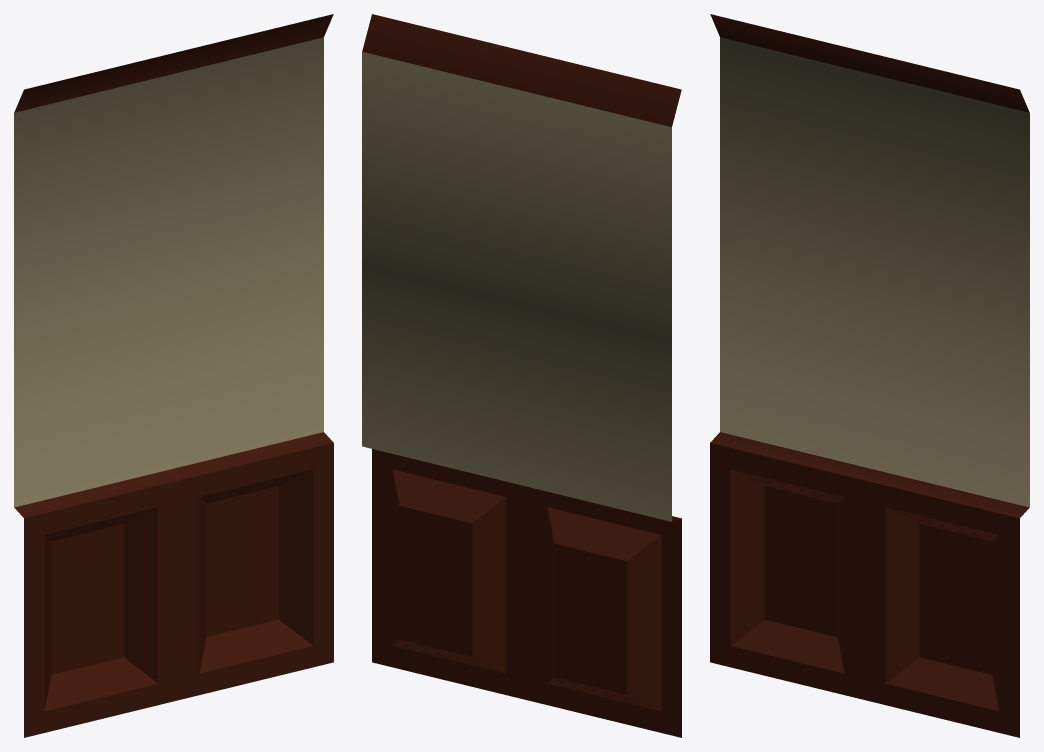
File: WallTile.FBX
The picture shows the model from 3 angles, left to right: view 1: azimuth 30°, elevation 25°; view 2: azimuth 150°, elevation 25°; view 3: azimuth 330°, elevation 25°; orthographic projection.
Visible parts, largest first — view 1: Plane001; view 2: Plane001; view 3: Plane001.
Part boxes in pixels (<box>): Plane001: <box>14,14,333,737</box>; Plane001: <box>362,14,681,737</box>; Plane001: <box>710,14,1029,737</box>.
Size of the model in its own units: 39.37 by 78.74 by 2.97.
